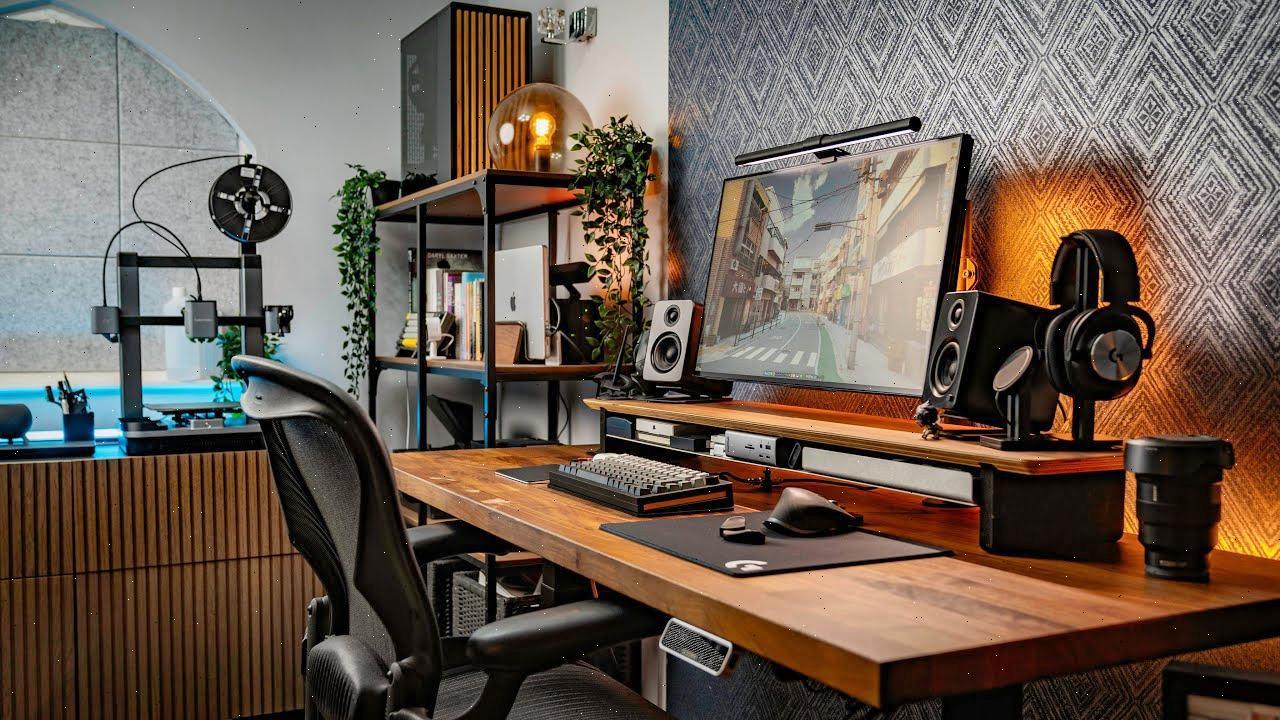keyboard: (538, 442, 742, 521)
monitor: (686, 129, 985, 397)
mouse: (759, 472, 872, 552)
pc: (383, 0, 544, 197)
